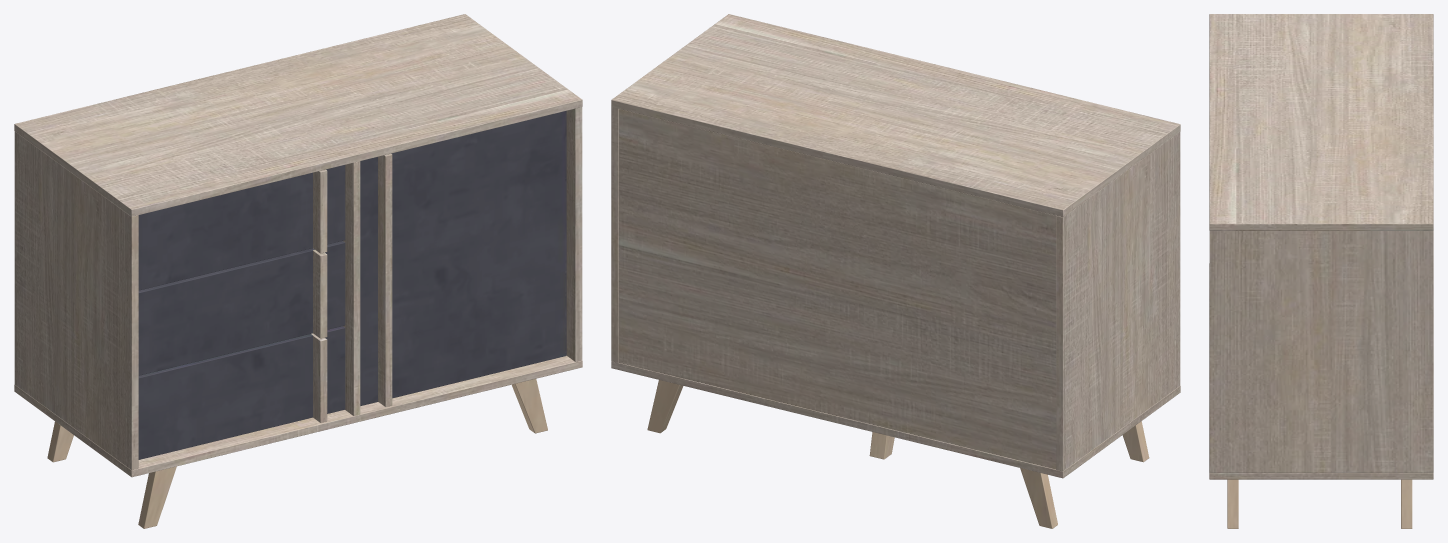
Rendered from abo-B07H8K1FDM.glb.
The picture shows the model from 3 angles, left to right: view 1: azimuth 30°, elevation 25°; view 2: azimuth 150°, elevation 25°; view 3: azimuth 270°, elevation 25°; orthographic projection. The views are drawn at different scales.
Size of the model in its own units: 1.11 by 0.78 by 0.5.
Materials: 1 (1 with a texture image).
